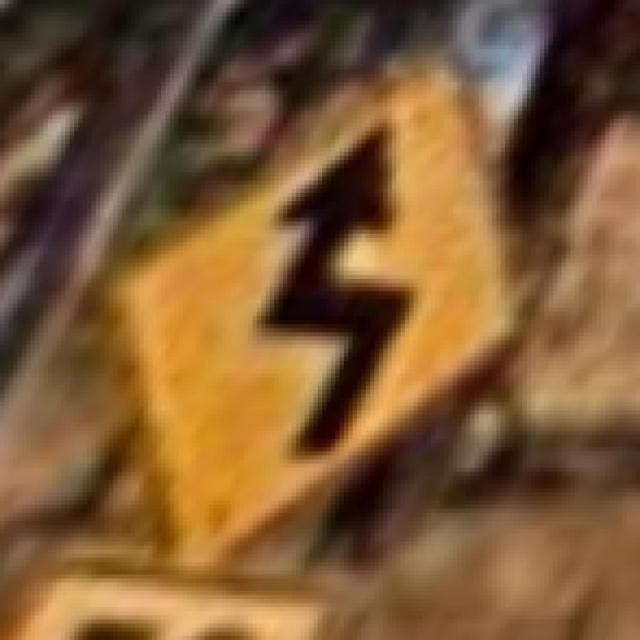Tikungan Ganda Pertama Ke Kiri: (87, 49, 518, 570)
